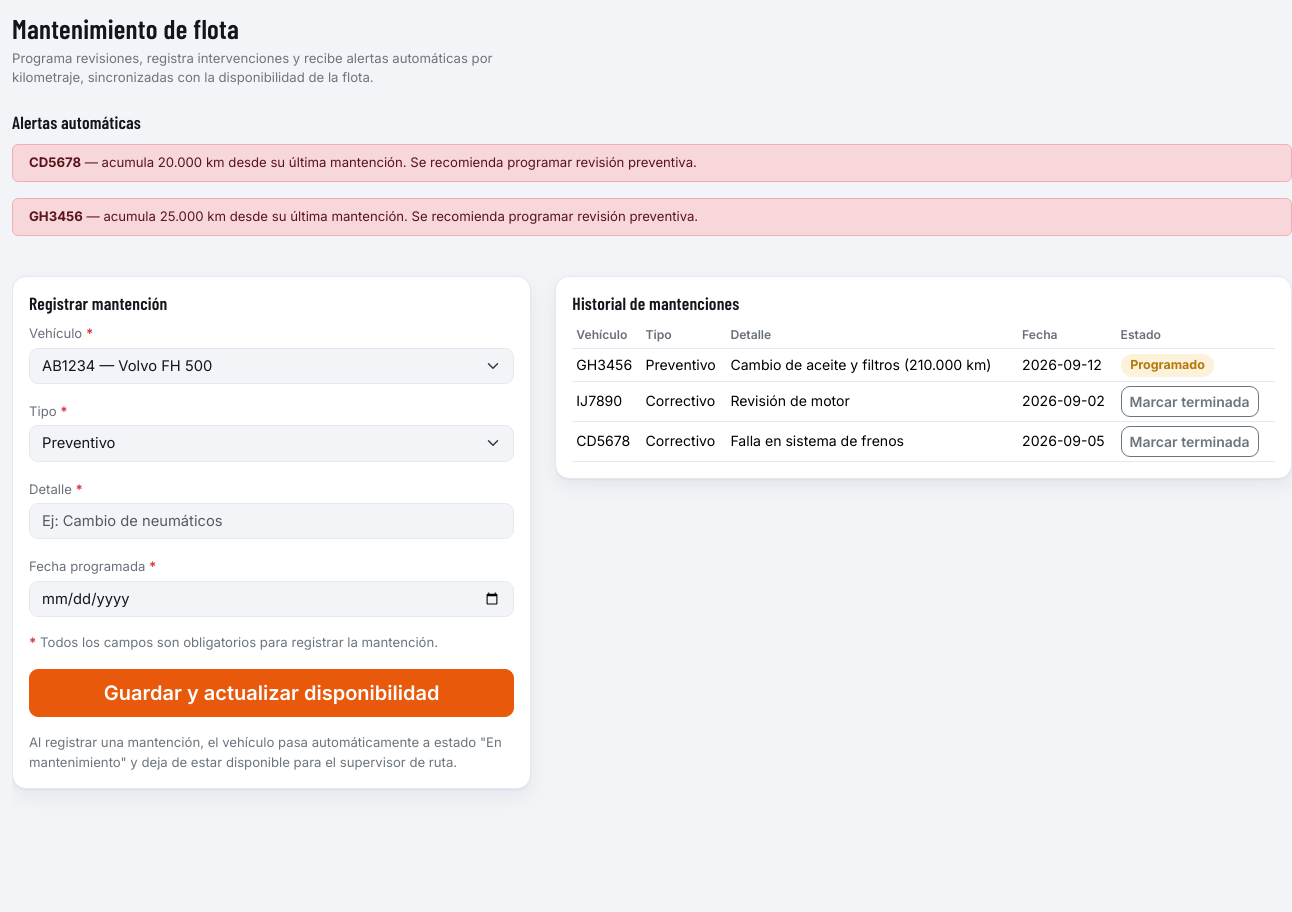
Test: MantenimientoView › cierra una mantención y retira la alerta del vehículo
The width and height of the screenshot is (1292, 912).
Expected: the text "acumula 20.000 km" is shown, [12,144,1291,182]
Click the button "Marcar terminada" in the row of "Falla en sistema de frenos": (1190,441) [1121,426,1259,456]
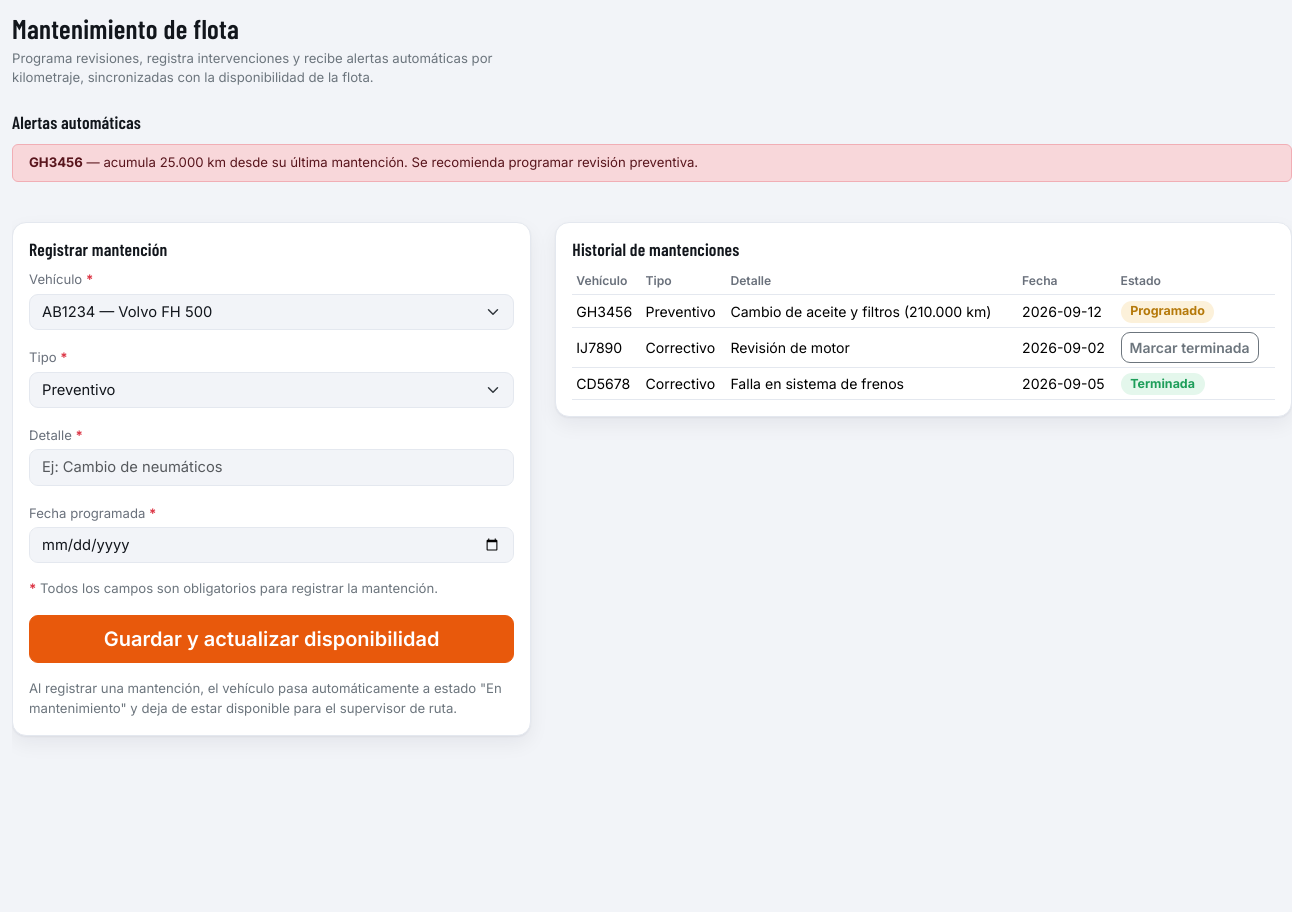
Expected: the text "acumula 20.000 km" is gone
